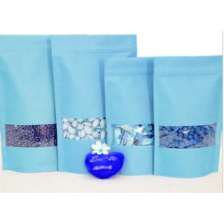snack: (46, 28, 141, 178), (0, 28, 90, 176), (147, 50, 224, 182), (99, 53, 177, 179)
